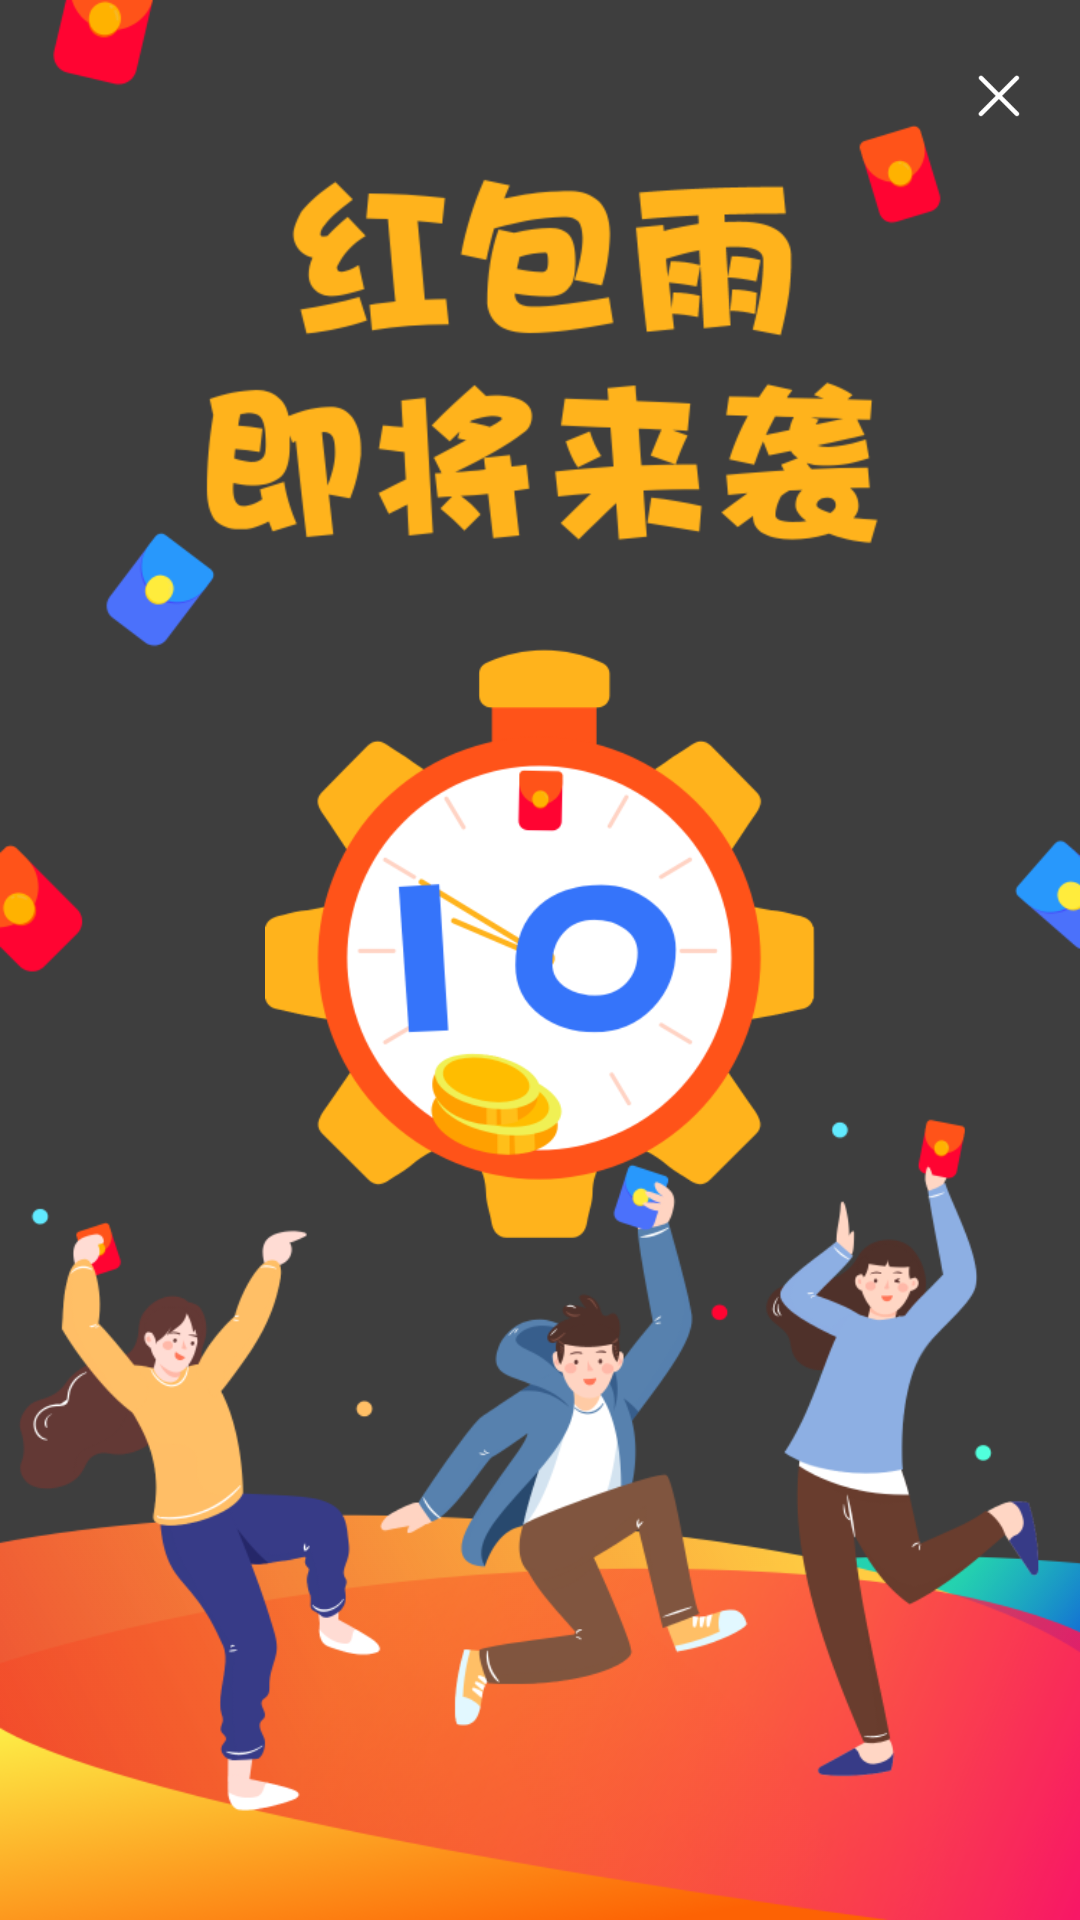

Icons on this 1080px×1920px Android screen, each with its box as (x1, y1, x2, y2):
packet rain close: (978, 75, 1020, 117)
